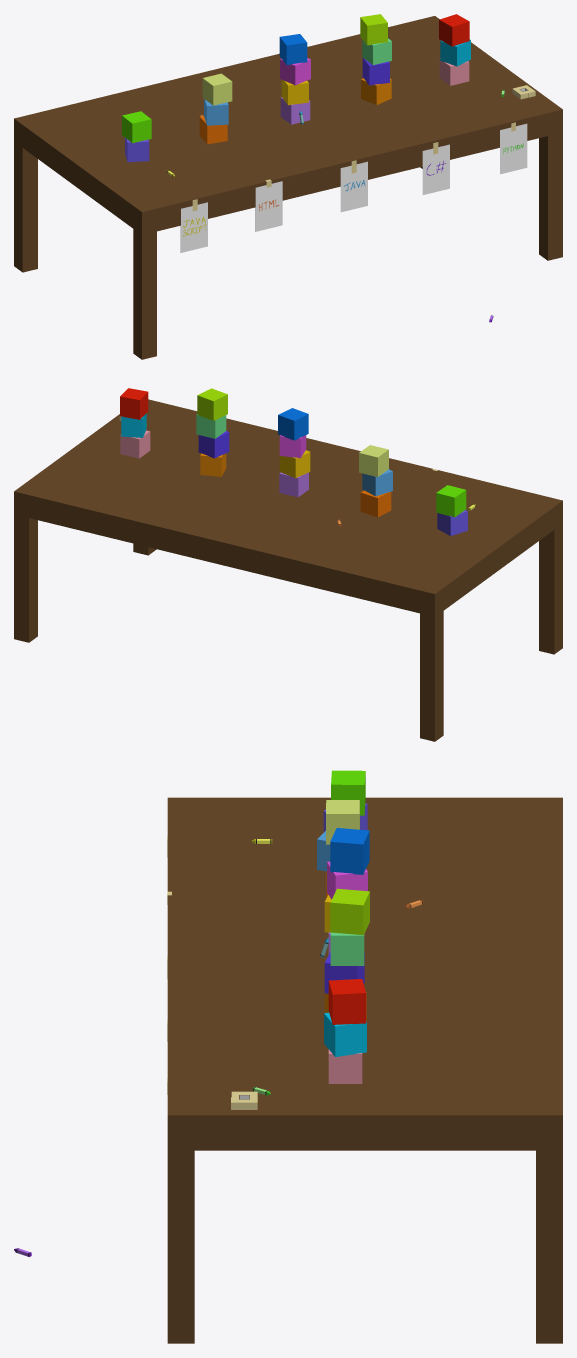
File: Programming Skills Table.gltf
The picture shows the model from 3 angles, top to bottom: view 1: azimuth 30°, elevation 25°; view 2: azimuth 150°, elevation 25°; view 3: azimuth 270°, elevation 25°; orthographic projection. The views are drawn at different scales.
Parts seen in each view (by area): view 1: Table, HTML Paper, Python Paper, C# Paper, Java Paper, Java Script Paper, Red Cube, Light Bogey Cube, Lime Cube, Blue Cube, Lime Green Cube, Sky Blue Cube (+10 smaller); view 2: Table, Lime Green Cube, Blue Cube, Lime Cube, Light Bogey Cube, Red Cube, Orange Cube, Purple Cube.001, Yellow Cube, Light Pink Cube, Light Blue Cube', Purple Cube (+5 smaller); view 3: Table, Blue Cube, Lime Green Cube, Red Cube, Sky Blue Cube, Teal Cube, Lime Cube, Light Bogey Cube, Light Pink Cube, Pink Cube, Purple Cube.001.
Boxes of the visible parts, box(x1,y1,x2,y2) form: Table: box(14, 16, 562, 359); HTML Paper: box(255, 181, 282, 231); Python Paper: box(500, 123, 527, 174); C# Paper: box(422, 144, 449, 194); Java Paper: box(340, 161, 367, 212); Java Script Paper: box(180, 202, 207, 252); Red Cube: box(439, 14, 469, 46); Light Bogey Cube: box(202, 73, 232, 105); Lime Cube: box(122, 111, 151, 143); Blue Cube: box(279, 34, 307, 64); Lime Green Cube: box(360, 14, 387, 45); Sky Blue Cube: box(440, 39, 470, 66); Table: box(14, 399, 562, 741); Lime Green Cube: box(197, 388, 227, 420); Blue Cube: box(278, 408, 308, 440); Lime Cube: box(436, 485, 466, 517); Light Bogey Cube: box(359, 445, 388, 476); Red Cube: box(120, 388, 148, 419); Orange Cube: box(360, 490, 391, 517); Purple Cube.001: box(198, 431, 229, 458); Yellow Cube: box(279, 450, 310, 478); Light Pink Cube: box(120, 430, 150, 458); Light Blue Cube': box(362, 469, 392, 496); Purple Cube: box(437, 510, 467, 536); Table: box(167, 797, 562, 1343); Blue Cube: box(330, 828, 369, 874); Lime Green Cube: box(330, 888, 369, 935); Red Cube: box(328, 979, 366, 1024); Sky Blue Cube: box(324, 1012, 366, 1056); Teal Cube: box(330, 932, 364, 965); Lime Cube: box(331, 770, 365, 815); Light Bogey Cube: box(326, 800, 359, 844); Light Pink Cube: box(328, 1049, 362, 1083); Pink Cube: box(327, 861, 367, 899); Purple Cube.001: box(324, 952, 364, 993).
Bounding box in the file's own units: 4.08 × 2.09 × 2.98.
45 materials, 5 textured.
